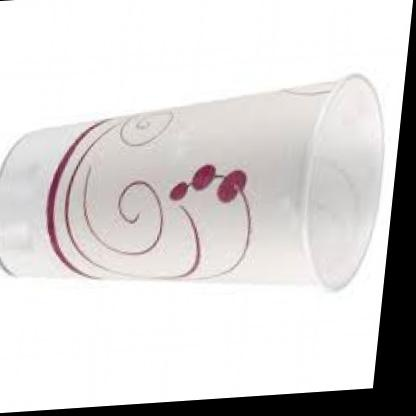trash: (0, 75, 383, 288)
